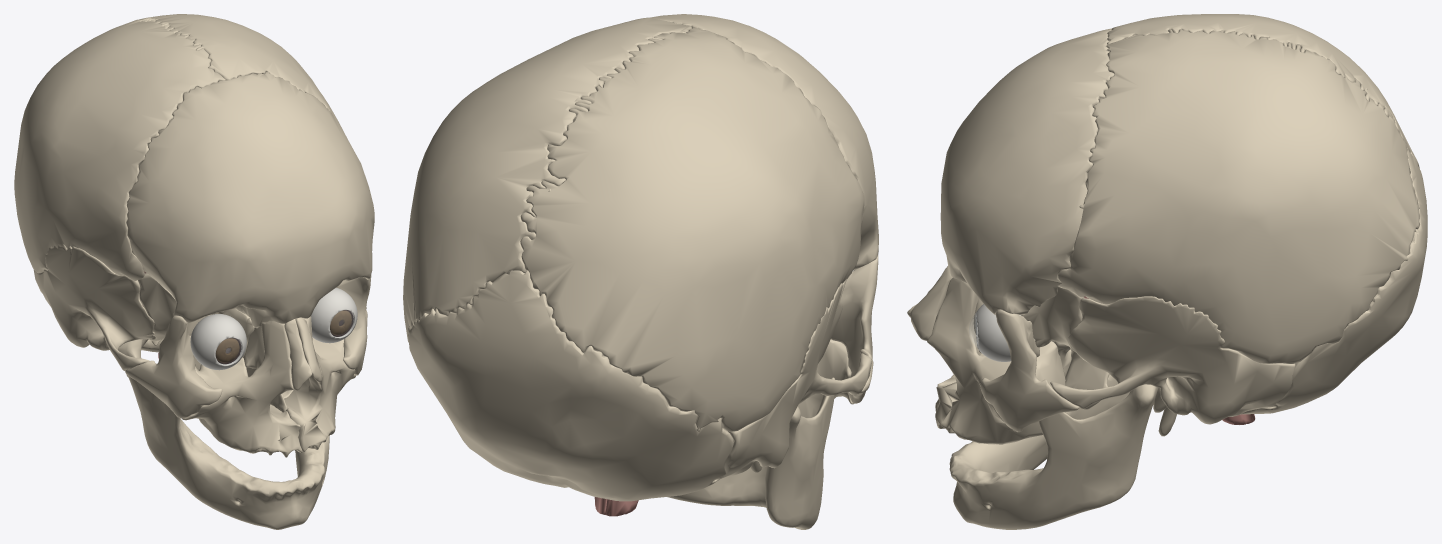
The model's file is cabeca.glb.
3 renders of one model, left to right at view 1: azimuth 30°, elevation 25°; view 2: azimuth 150°, elevation 25°; view 3: azimuth 270°, elevation 25°, orthographic. The views are drawn at different scales.
Parts seen in each view (by area): view 1: BP9668, BP10121, BP9617, BP10032, BP9705, BP10199, BP9965, BP10118, BP7094, BP7110, BP9801, BP9806 (+3 smaller); view 2: BP10121, BP10180, BP10199, BP9668, BP9617, BP10032, BP9965, BP9705, BP6687; view 3: BP10199, BP9668, BP9617, BP9536, BP10118, BP10180, BP10121, BP9801, BP9806, BP7110, BP9837.
Boxes of the visible parts, bbox=[...] form: BP9668: bbox=[126, 72, 374, 328]; BP10121: bbox=[14, 18, 225, 280]; BP9617: bbox=[118, 339, 329, 529]; BP10032: bbox=[33, 244, 154, 377]; BP9705: bbox=[182, 321, 302, 457]; BP10199: bbox=[139, 14, 346, 136]; BP9965: bbox=[125, 315, 222, 418]; BP10118: bbox=[271, 316, 355, 451]; BP7094: bbox=[190, 314, 246, 370]; BP7110: bbox=[311, 287, 357, 343]; BP9801: bbox=[336, 275, 371, 375]; BP9806: bbox=[138, 273, 344, 370]; BP10121: bbox=[520, 27, 864, 431]; BP10180: bbox=[407, 270, 733, 501]; BP10199: bbox=[403, 17, 691, 342]; BP9668: bbox=[625, 14, 878, 270]; BP9617: bbox=[667, 377, 835, 529]; BP10032: bbox=[716, 278, 871, 479]; BP9965: bbox=[831, 255, 878, 403]; BP9705: bbox=[798, 339, 854, 417]; BP6687: bbox=[594, 497, 638, 516]; BP10199: bbox=[1058, 29, 1419, 363]; BP9668: bbox=[940, 28, 1114, 315]; BP9617: bbox=[949, 374, 1158, 529]; BP9536: bbox=[1050, 296, 1295, 436]; BP10118: bbox=[927, 277, 1065, 444]; BP10180: bbox=[1240, 147, 1427, 414]; BP10121: bbox=[1107, 14, 1419, 168]; BP9801: bbox=[980, 309, 1079, 431]; BP9806: bbox=[1021, 286, 1109, 409]; BP7110: bbox=[969, 304, 1034, 361]; BP9837: bbox=[910, 266, 952, 340].
Size of the model in its own units: 0.151 by 0.2147 by 0.2088.
